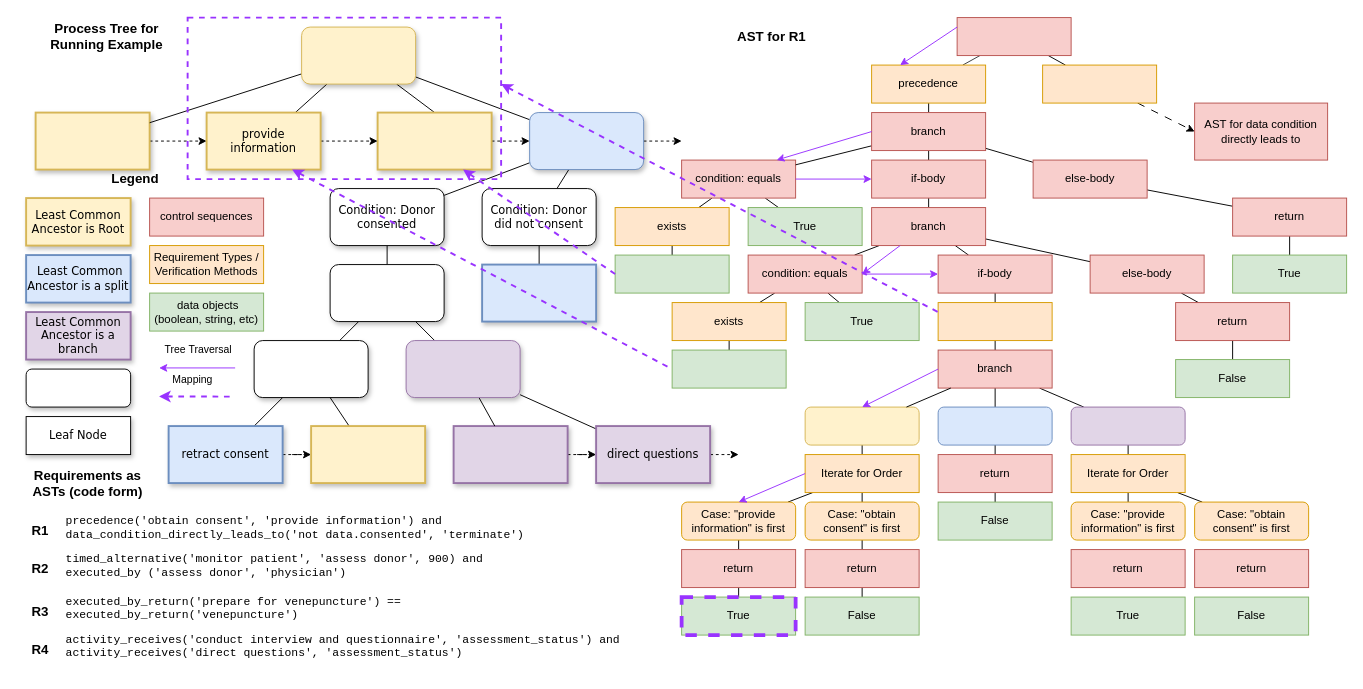
This 1363x689 diagram has some shape labels left out. Here are the shapes that lost their labels. From the top down, the centre of each, then its label:
point 359,56: Root
point 1013,36: and
point 1099,83: data condition directly leads to
point 93,142: Start Activity
point 435,142: obtain consent
point 587,142: Exclusive Choice E
point 671,273: "obtain consent"
point 387,294: parallel P
point 539,294: Terminate T1
point 994,321: compare elements
point 311,370: Branch A
point 463,370: Branch B
point 728,368: "provide information"
point 78,389: Branch Node
point 861,425: Case: least common ancestor is root
point 994,425: Case: least common ancestor is split
point 1127,425: Case: least common ancestor is branch
point 368,455: Terminate T2
point 511,455: conduct questionnaire
